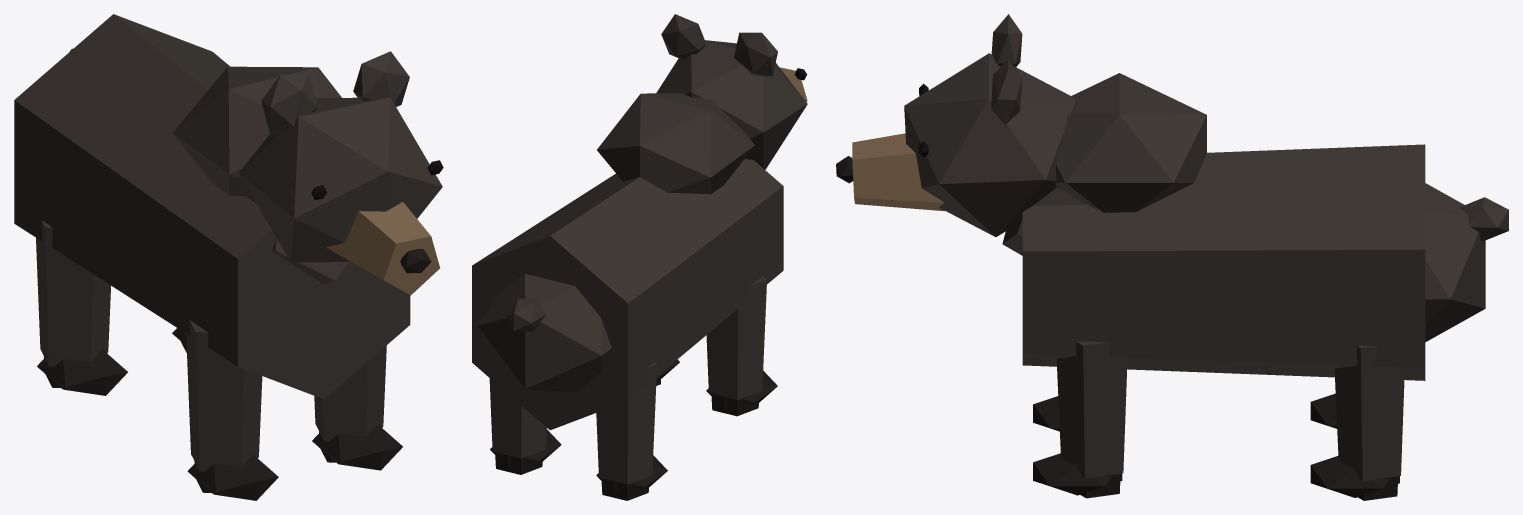
File: bear.glb
3 views of the same model, side by side, from view 1: azimuth 30°, elevation 25°; view 2: azimuth 150°, elevation 25°; view 3: azimuth 270°, elevation 25° (orthographic). The views are drawn at different scales.
Parts seen in each view (by area): view 1: torso, Bear, skull, hump, snout, ear (×2), neck, nose; view 2: torso, Bear, hump, hips, skull, ear (×2), tail; view 3: torso, Bear, skull, hump, hips, snout, ear (×2), tail, neck.
Part boxes in pixels (x1,y1,x2,y2): torso: (14, 14, 410, 399); Bear: (36, 220, 402, 500); skull: (239, 97, 442, 262); hump: (173, 66, 341, 195); snout: (326, 202, 439, 295); ear (×2): (261, 51, 409, 132); neck: (245, 194, 348, 284); nose: (400, 249, 431, 273); torso: (472, 159, 783, 430); Bear: (489, 276, 777, 500); hump: (597, 93, 754, 194); hips: (478, 274, 611, 392); skull: (656, 40, 807, 169); ear (×2): (661, 14, 777, 76); tail: (506, 298, 546, 331); torso: (1022, 144, 1425, 380); Bear: (1033, 341, 1404, 500); skull: (904, 53, 1076, 236); hump: (1055, 73, 1206, 212); hips: (1425, 183, 1485, 342); snout: (852, 133, 944, 211); ear (×2): (991, 14, 1022, 124); tail: (1459, 197, 1508, 241); neck: (1002, 188, 1086, 255).
Size of the model in its own units: 0.7568 by 1.55 by 2.25.
